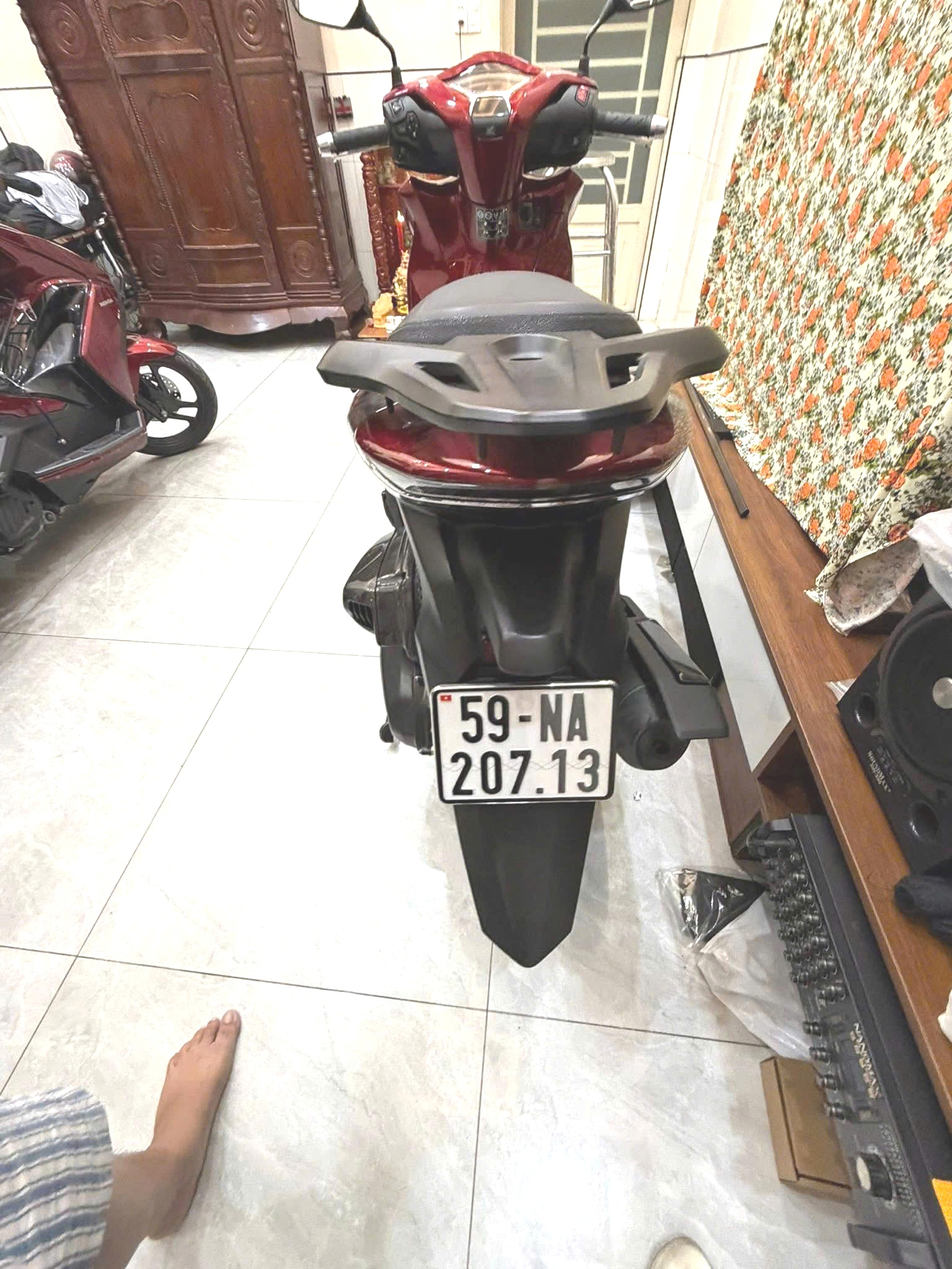Bien-so: (459, 657, 654, 783)
